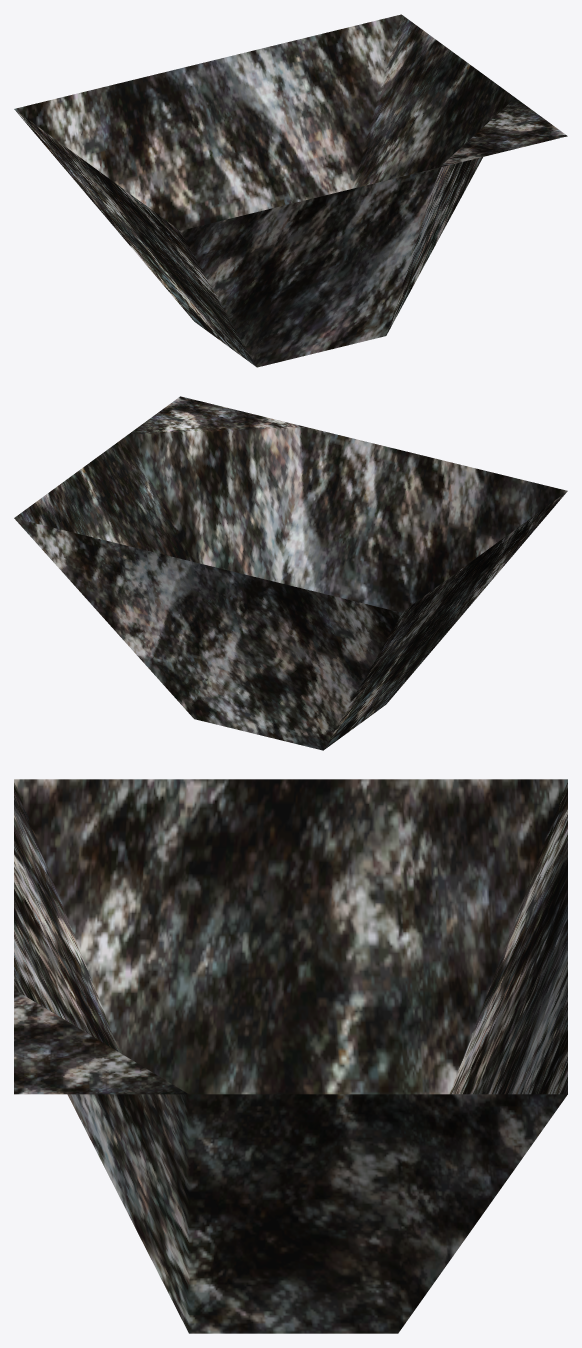
File: OVERHILL_A_01_OH_HOLE_BOTTOM84746.fbx
3 views of the same model, one above another, from view 1: azimuth 30°, elevation 25°; view 2: azimuth 150°, elevation 25°; view 3: azimuth 270°, elevation 25° (orthographic). The views are drawn at different scales.
Parts seen in each view (by area): view 1: OVERHILL_A_01_OH_HOLE_BOTTOM84746; view 2: OVERHILL_A_01_OH_HOLE_BOTTOM84746; view 3: OVERHILL_A_01_OH_HOLE_BOTTOM84746.
Part boxes in pixels (x1,y1,x2,y2): OVERHILL_A_01_OH_HOLE_BOTTOM84746: (14,14,567,367); OVERHILL_A_01_OH_HOLE_BOTTOM84746: (14,396,567,750); OVERHILL_A_01_OH_HOLE_BOTTOM84746: (14,779,567,1333).
Size of the model in its own units: 136801 by 69737 by 101733.
1 material, 1 textured.
